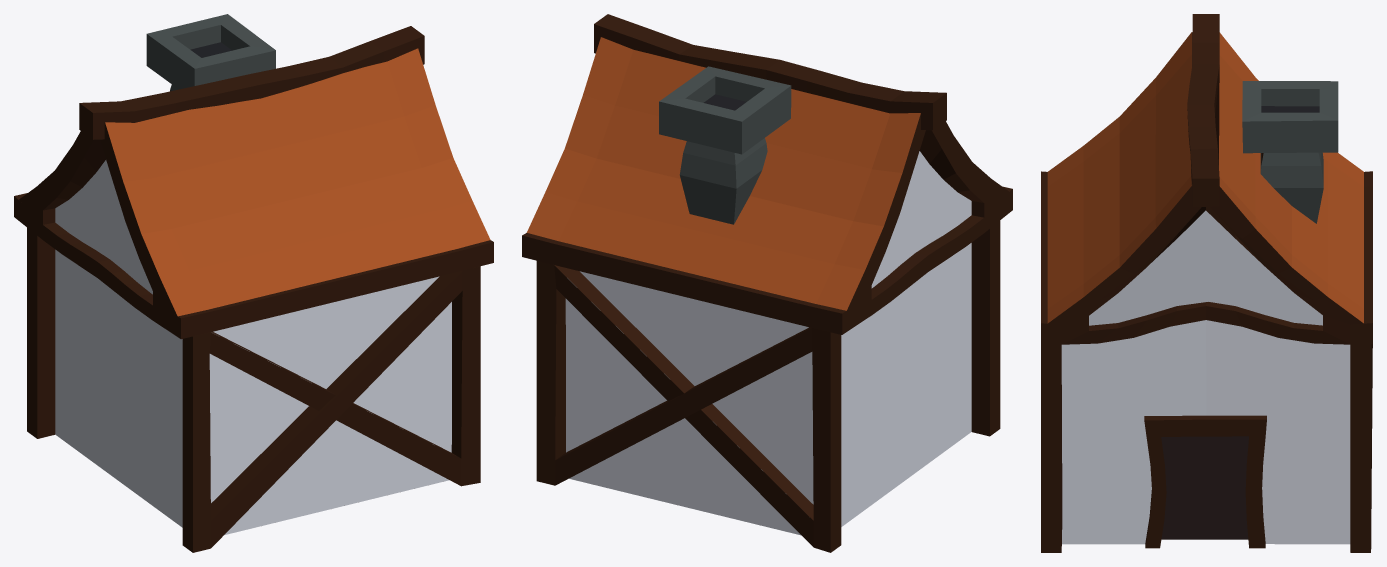
File: maison_petite_2.fbx
3 renders of one model, left to right at view 1: azimuth 30°, elevation 25°; view 2: azimuth 150°, elevation 25°; view 3: azimuth 270°, elevation 25°, orthographic. The views are drawn at different scales.
Visible parts, largest first — view 1: Plane; view 2: Plane; view 3: Plane.
Part boxes in pixels (x1,y1,x2,y2): Plane: [14, 14, 493, 552]; Plane: [522, 14, 1012, 552]; Plane: [1041, 14, 1372, 552].
Bounding box in the file's own units: 2227 × 2503 × 1941.
